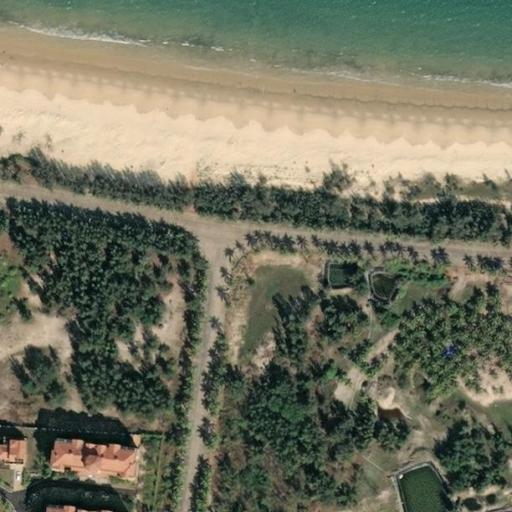building: (40, 435, 129, 473), (33, 504, 103, 512)
